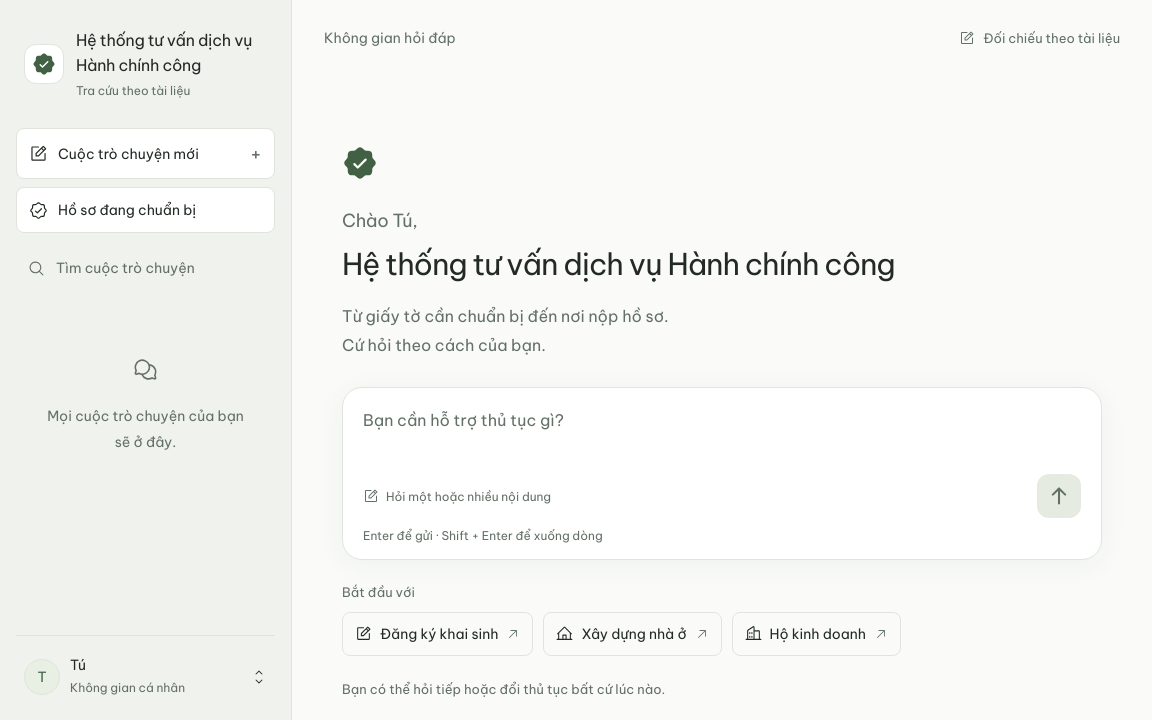
Test: G6 account workspace › retries failed delivery with the same client id
Step 1. Type "Giấy tờ?" into the text box named "Câu hỏi của bạn" → (722, 440), box [363, 406, 1081, 474]
Then press Enter
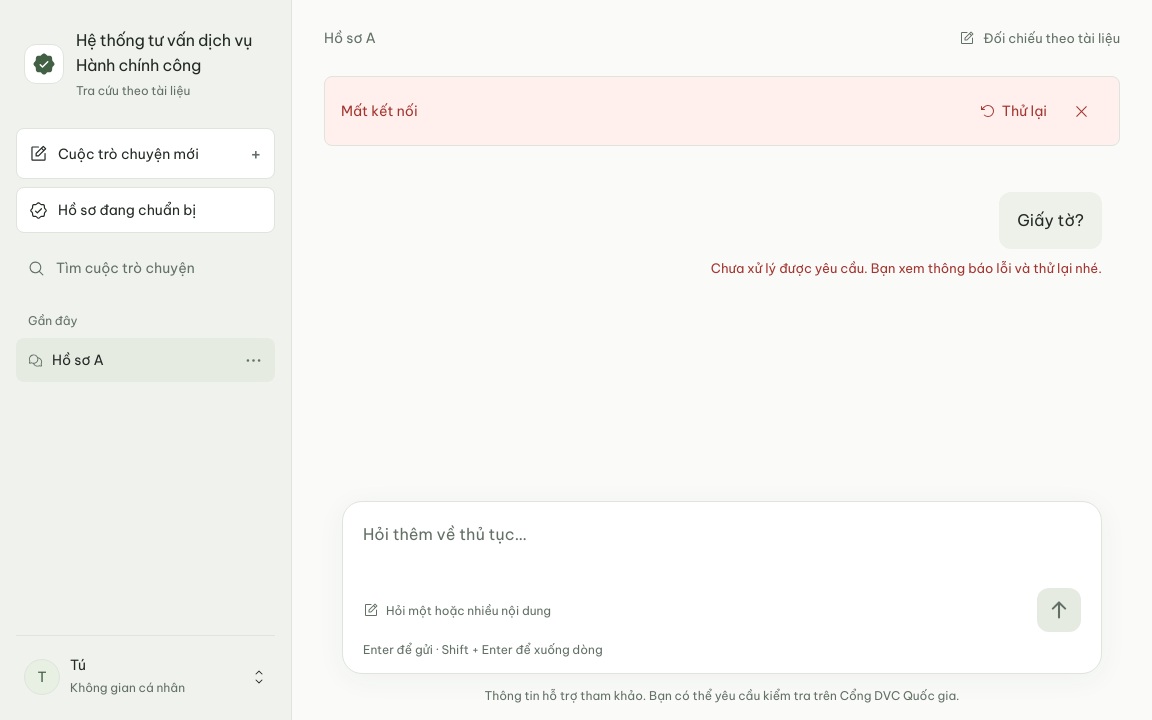
Step 2. Click the button "Thử lại" → click(1013, 111), box [980, 89, 1047, 133]
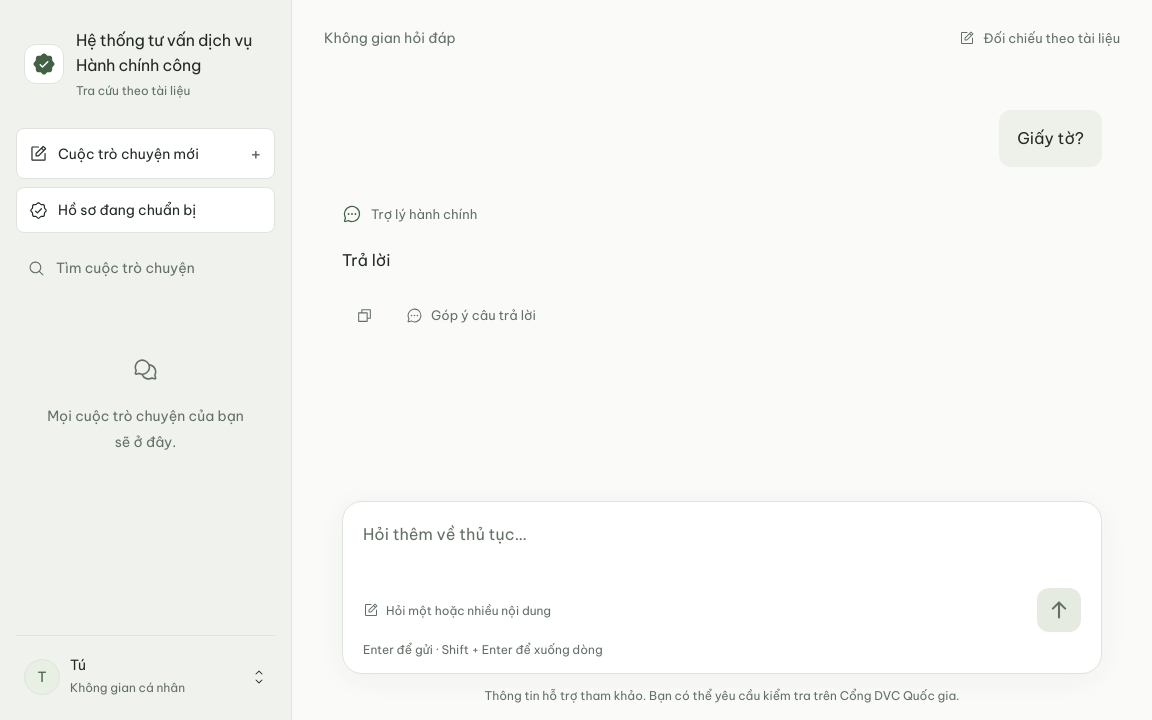
Expected: the text "Giấy tờ?" is shown once, [999, 110, 1102, 167]
Expected: the text "Trả lời" is shown, [342, 250, 390, 270]
